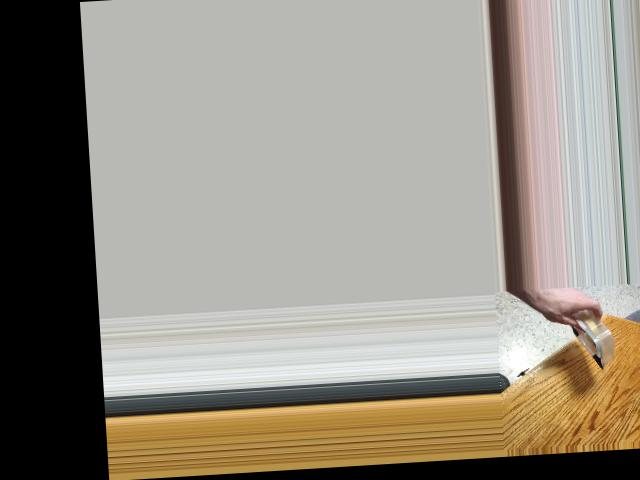cheese: (545, 292, 631, 358)
